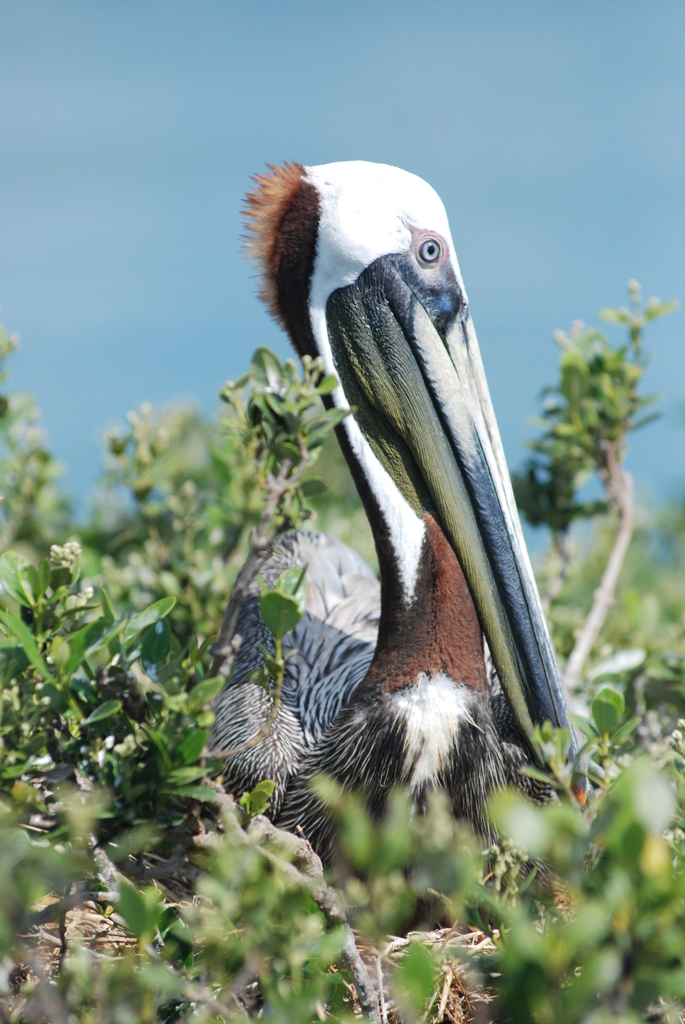Bird: (213, 154, 593, 909)
